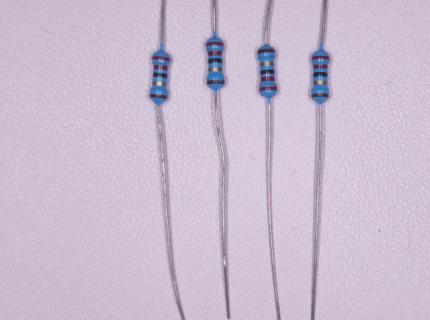Black band: (153, 72, 168, 79), (207, 58, 223, 64), (260, 69, 275, 75), (313, 72, 328, 77)
Brown band: (149, 94, 168, 100), (207, 80, 225, 85), (258, 49, 276, 54), (311, 93, 329, 98)
Gold band: (152, 81, 166, 87), (313, 80, 328, 85), (260, 62, 274, 66), (208, 68, 222, 72)
Red band: (152, 55, 171, 62), (259, 86, 278, 92), (153, 64, 168, 71), (311, 55, 330, 60), (205, 42, 224, 46), (260, 77, 275, 82), (208, 51, 223, 56), (313, 64, 328, 69)
